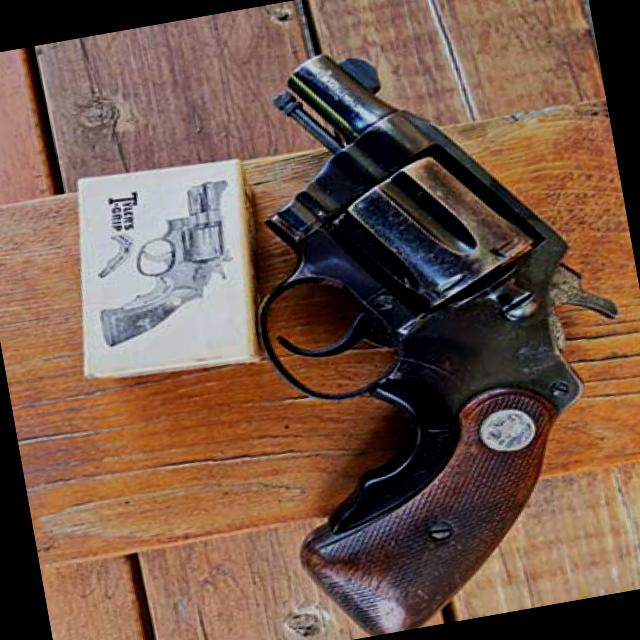handgun: (212, 4, 639, 639), (78, 176, 255, 346)
